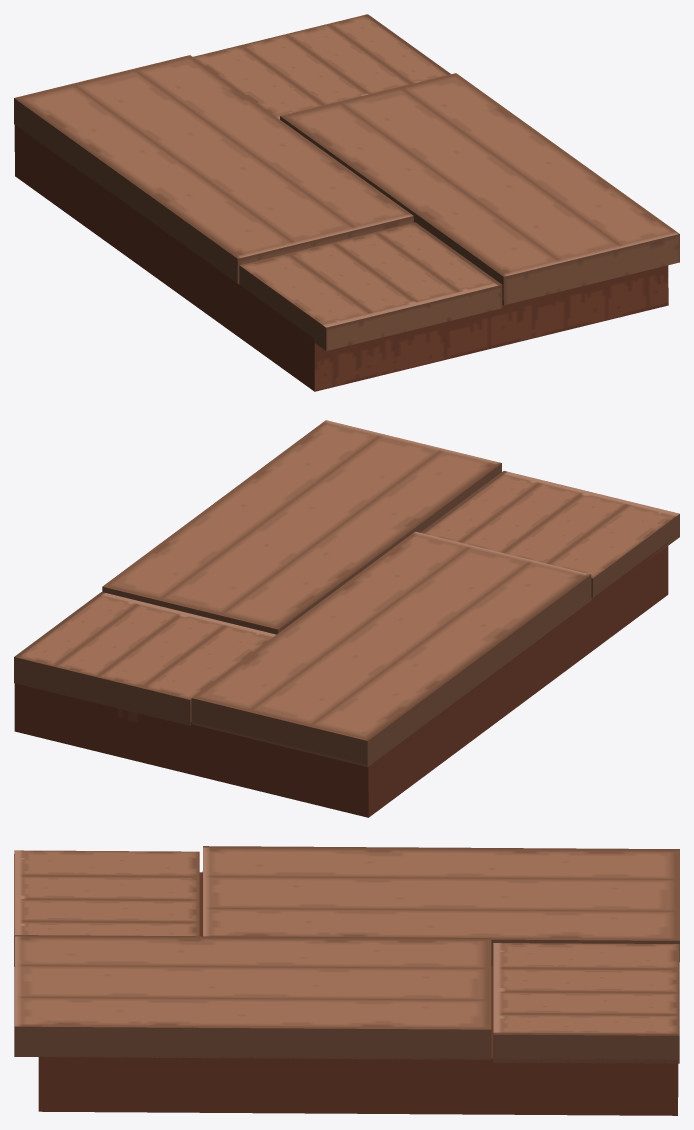
The model's file is docks_wood_tile_01.fbx.
3 views of the same model, one above another, from view 1: azimuth 30°, elevation 25°; view 2: azimuth 150°, elevation 25°; view 3: azimuth 270°, elevation 25° (orthographic). The views are drawn at different scales.
Parts seen in each view (by area): view 1: docks_wood_tile_01; view 2: docks_wood_tile_01; view 3: docks_wood_tile_01.
Part boxes in pixels (x1,y1,x2,y2): docks_wood_tile_01: (14,14,679,391); docks_wood_tile_01: (14,420,679,817); docks_wood_tile_01: (14,846,679,1115).
Bounding box in the file's own units: 7.86 × 1.78 × 12.02.
Materials: 5 (5 with a texture image).
